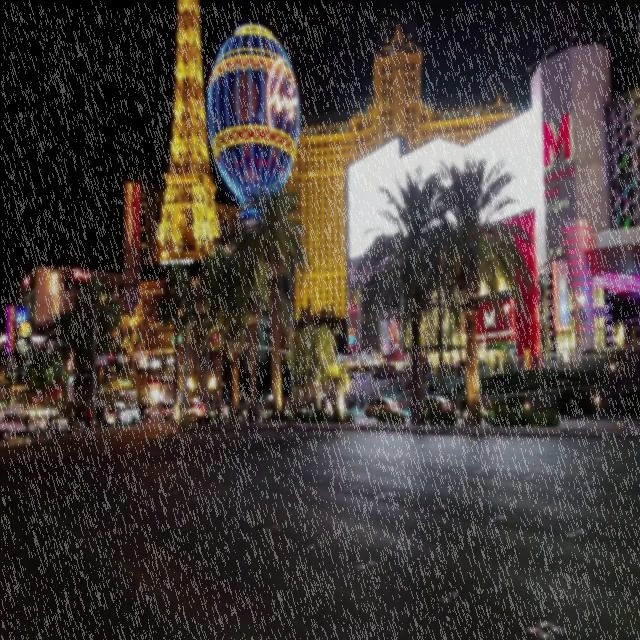pessoa: (266, 389, 336, 414), (342, 362, 411, 380), (610, 332, 640, 350), (228, 391, 259, 408), (237, 82, 250, 116), (421, 358, 434, 386), (22, 412, 34, 442), (42, 412, 54, 440), (92, 402, 101, 434), (540, 354, 558, 370), (78, 408, 88, 436), (114, 404, 124, 432), (86, 404, 94, 436), (102, 402, 110, 434), (101, 402, 109, 434), (150, 396, 164, 414), (138, 398, 146, 428), (323, 370, 343, 382), (67, 409, 75, 437), (112, 404, 120, 432), (66, 412, 74, 438), (83, 406, 89, 436), (178, 397, 184, 424), (515, 356, 525, 372), (502, 359, 514, 371), (532, 354, 540, 371), (494, 352, 500, 374), (568, 348, 574, 370), (292, 382, 298, 404), (296, 382, 302, 404), (133, 356, 140, 374), (56, 420, 62, 440), (494, 354, 500, 374), (52, 420, 58, 438), (348, 393, 354, 411), (447, 362, 455, 375), (442, 360, 448, 377), (558, 352, 564, 369), (242, 396, 248, 412), (397, 378, 403, 394), (404, 380, 412, 392), (438, 361, 444, 376), (378, 388, 386, 399), (368, 392, 374, 406), (370, 391, 374, 412), (386, 383, 392, 397), (372, 390, 376, 410), (436, 368, 442, 381), (459, 358, 464, 372), (262, 393, 266, 410), (350, 393, 354, 410), (462, 359, 467, 372), (344, 394, 348, 410), (348, 394, 352, 410), (478, 356, 482, 372), (260, 393, 264, 408), (362, 392, 366, 407), (389, 376, 394, 388), (436, 364, 440, 378), (482, 358, 486, 372), (362, 388, 367, 399), (353, 389, 357, 402), (456, 359, 460, 372), (374, 391, 380, 399), (360, 390, 362, 408), (240, 397, 243, 407), (386, 388, 388, 398)
